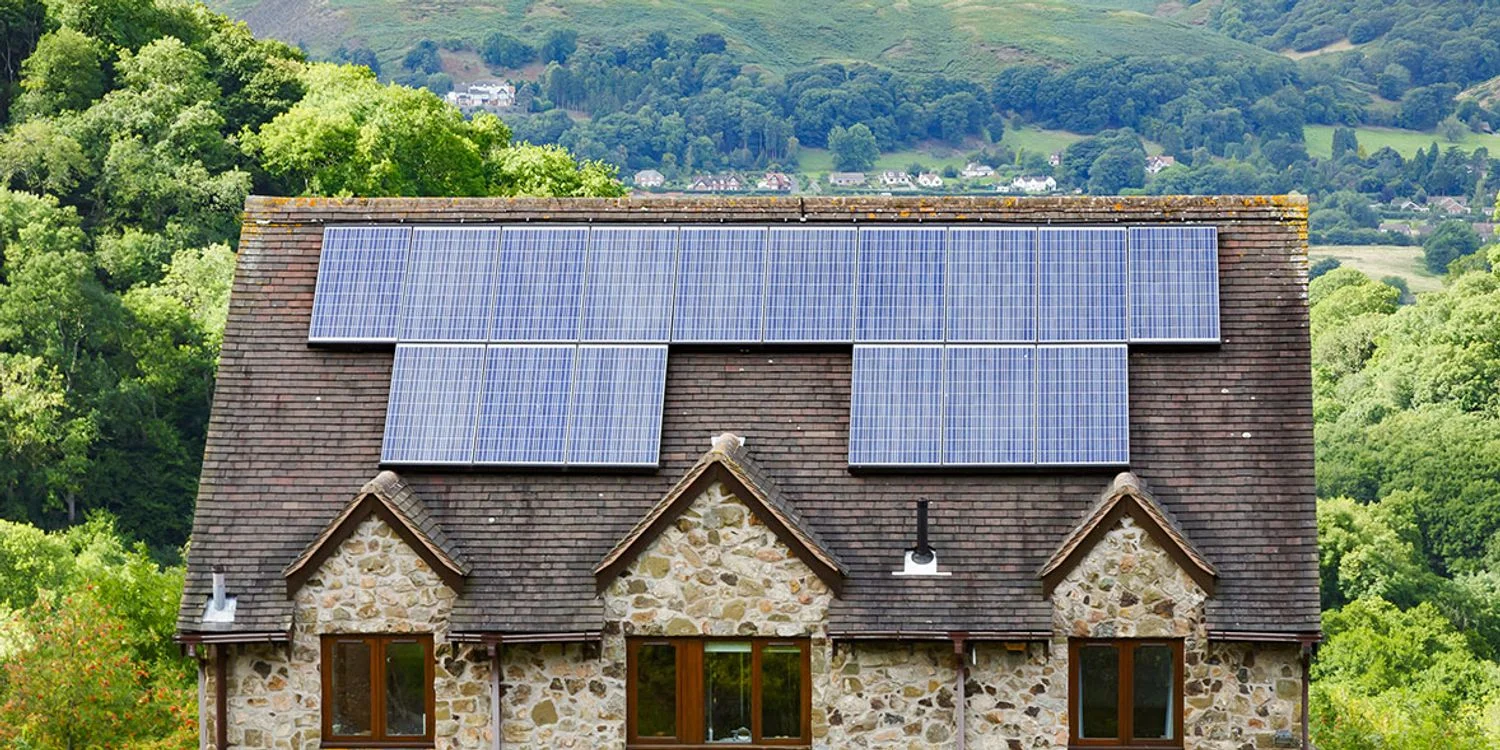House: (193, 145, 1341, 750)
